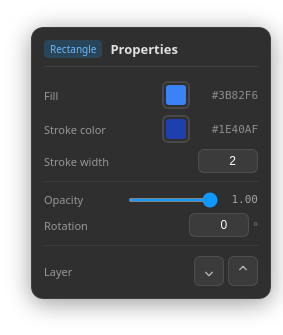
Test case: PropertyPanel › updates fill color on change
The width and height of the screenshot is (283, 335).
Type "#00FF00" into the colour field labelled "Fill" at (176, 95), box [162,81,190,109]
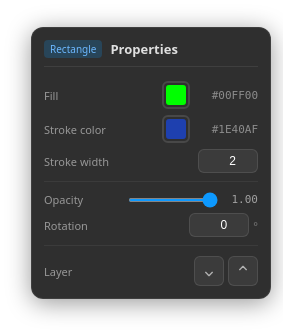
Expected: the text "#00FF00" is shown, [212,88,258,102]
